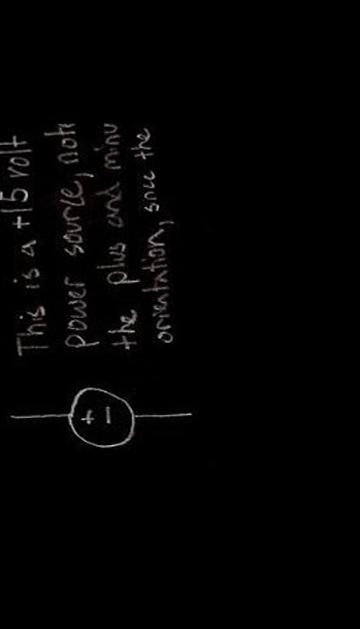Battery: (50, 371, 142, 464)
